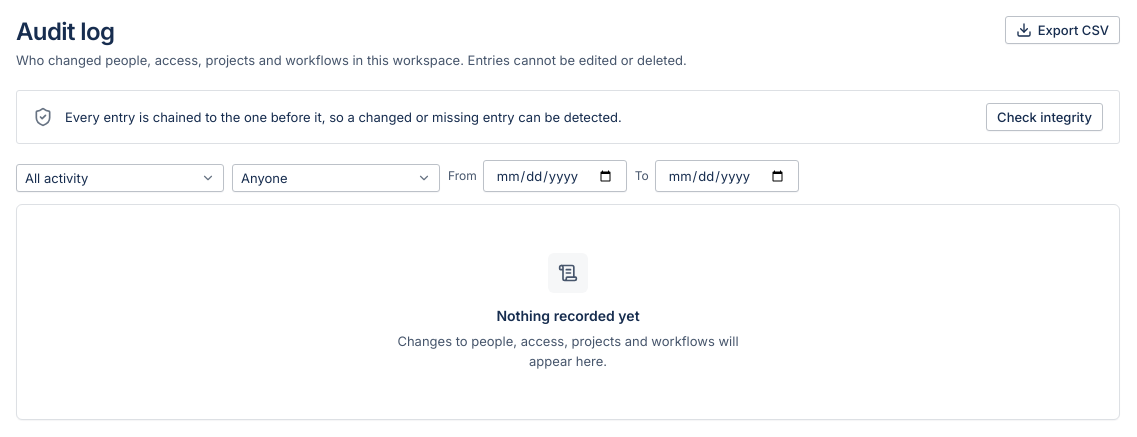
Test: audit log page › says when the log is intact
The image size is (1137, 437).
Expected: the heading "Nothing recorded yet" is shown, x1=496 y1=305 x2=640 y2=327
Click the button "Check integrity".
click(1045, 117)  # box x1=986 y1=103 x2=1103 y2=131
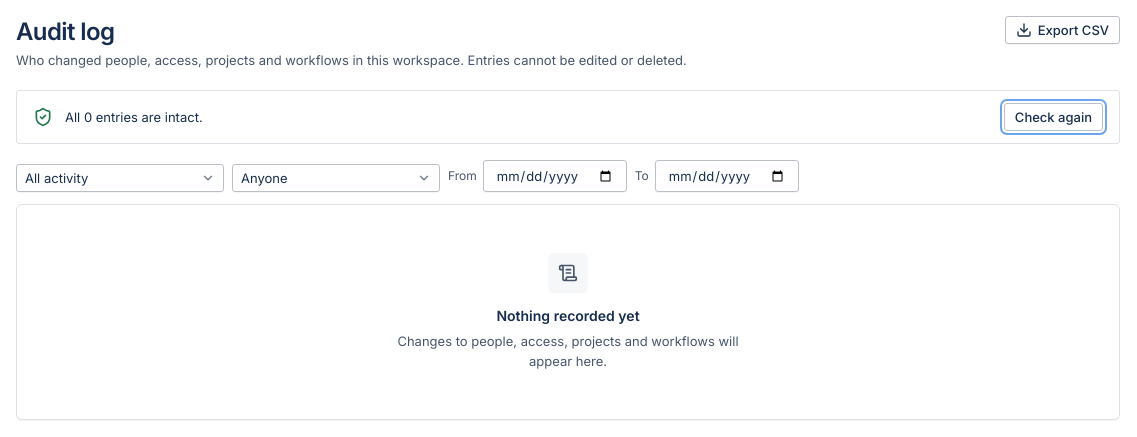
Now the text "All 0 entries are intact." is shown, box x1=65 y1=109 x2=203 y2=125
